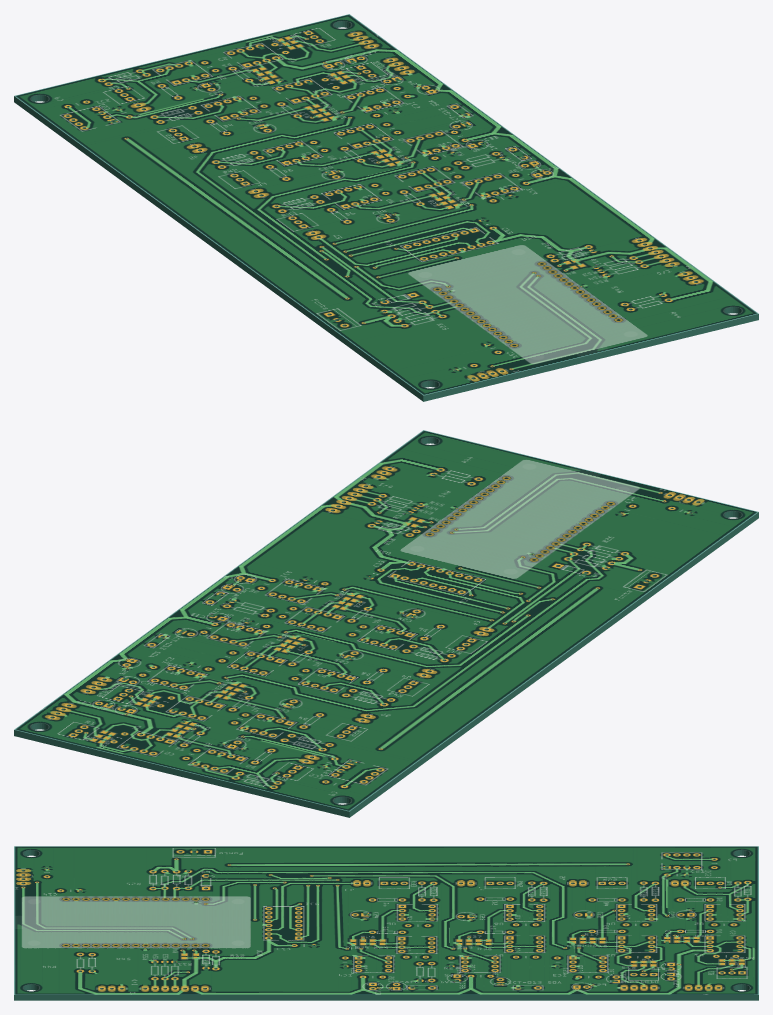
Rendered from pcb.glb.
The picture shows the model from 3 angles, top to bottom: view 1: azimuth 30°, elevation 25°; view 2: azimuth 150°, elevation 25°; view 3: azimuth 270°, elevation 25°; orthographic projection. The views are drawn at different scales.
Visible parts, largest first — view 1: board-surfaces, board-edges; view 2: board-surfaces, board-edges; view 3: board-surfaces, board-edges.
Boxes of the visible parts, box(x1,y1,x2,y2) form: board-surfaces: box(14, 14, 758, 395); board-edges: box(14, 21, 758, 401); board-surfaces: box(14, 430, 758, 811); board-edges: box(14, 437, 758, 817); board-surfaces: box(14, 846, 758, 994); board-edges: box(14, 850, 758, 1000).
Size of the model in its own units: 89.79 by 1.6 by 190.
3 materials, 2 textured.
